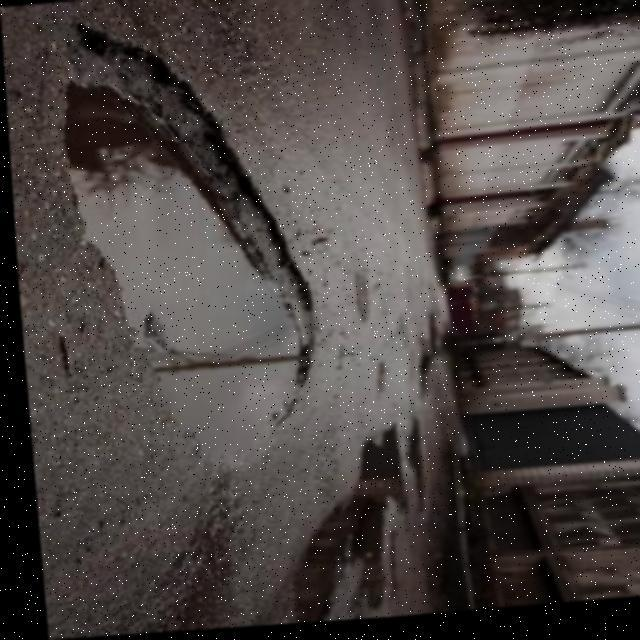pothole: (50, 6, 326, 480), (260, 428, 410, 628)
